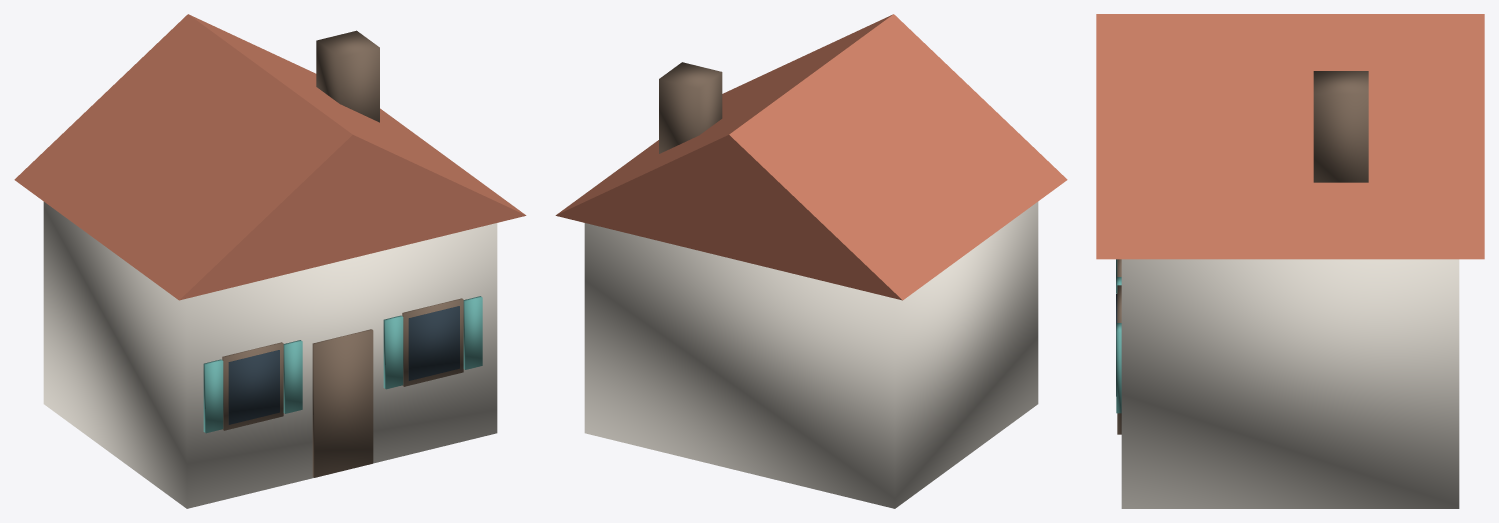
File: Set_AlpineChalet_Teal.glb
The picture shows the model from 3 angles, left to right: view 1: azimuth 30°, elevation 25°; view 2: azimuth 150°, elevation 25°; view 3: azimuth 270°, elevation 25°; orthographic projection. The views are drawn at different scales.
Visible parts, largest first — view 1: Cottage_Roof, Cottage_Body, Cottage_Door, Cottage_Chimney, WinGlsT_-1.45, WinGlsT_1.45, ShutT_-1.45_-1, ShutT_1.45_-1, WinFrmT_-1.45, ShutT_1.45_1, ShutT_-1.45_1, WinFrmT_1.45; view 2: Cottage_Body, Cottage_Roof, Cottage_Chimney; view 3: Cottage_Roof, Cottage_Body, Cottage_Chimney, ShutT_1.45_1.
Boxes of the visible parts, x1,y1,x2,y2 form: Cottage_Roof: [14, 14, 526, 300]; Cottage_Body: [43, 202, 497, 508]; Cottage_Door: [312, 329, 373, 477]; Cottage_Chimney: [316, 30, 379, 122]; WinGlsT_-1.45: [228, 350, 279, 424]; WinGlsT_1.45: [408, 306, 459, 380]; ShutT_-1.45_-1: [203, 359, 223, 433]; ShutT_1.45_-1: [383, 315, 403, 389]; WinFrmT_-1.45: [222, 342, 283, 430]; ShutT_1.45_1: [463, 296, 482, 369]; ShutT_-1.45_1: [283, 340, 302, 413]; WinFrmT_1.45: [402, 298, 463, 386]; Cottage_Body: [584, 202, 1038, 508]; Cottage_Roof: [555, 14, 1067, 300]; Cottage_Chimney: [659, 62, 722, 153]; Cottage_Roof: [1096, 14, 1484, 259]; Cottage_Body: [1121, 259, 1459, 508]; Cottage_Chimney: [1313, 71, 1368, 182]; ShutT_1.45_1: [1116, 323, 1121, 413].
Size of the model in its own units: 5.6 by 5.3 by 4.6.
